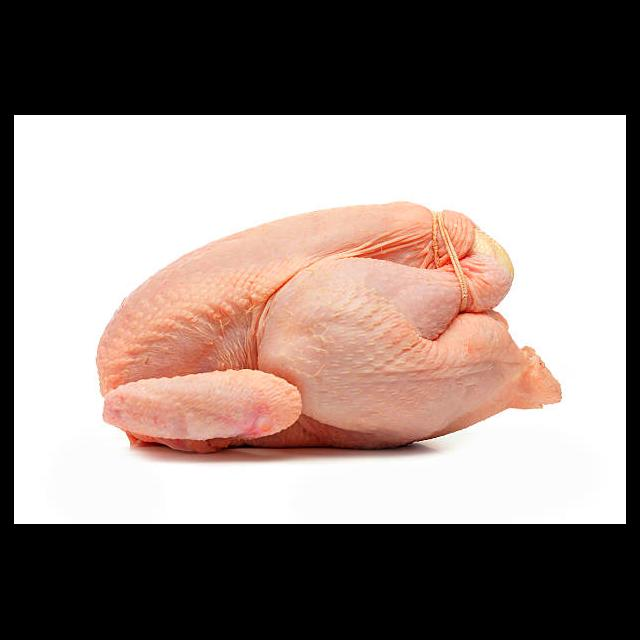chicken: (95, 202, 564, 456)
